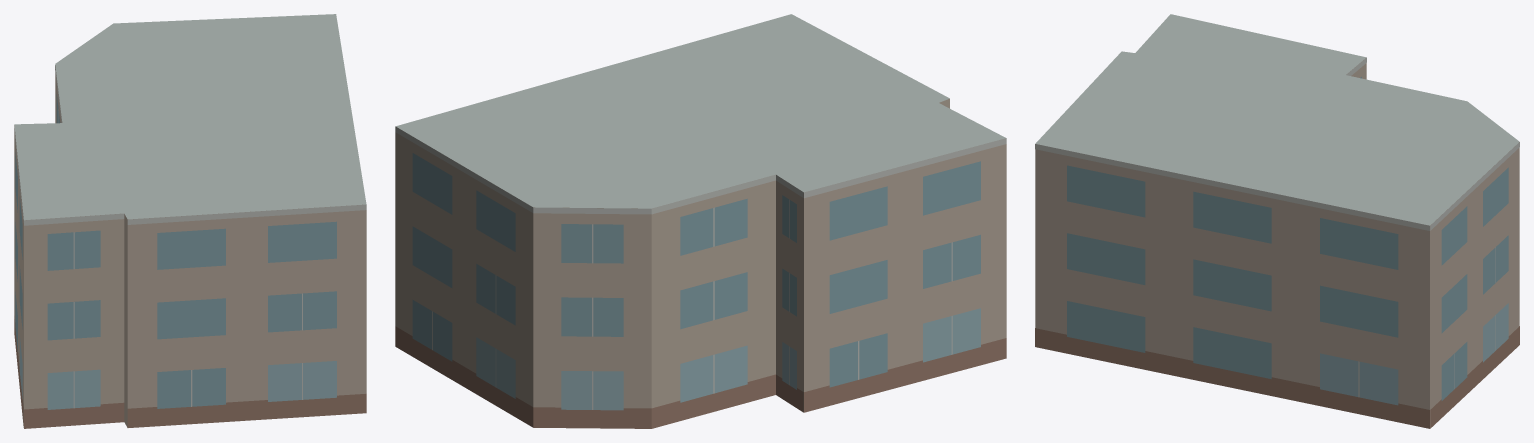
The model's file is survey-upis-32587945.glb.
3 renders of one model, left to right at view 1: azimuth 30°, elevation 25°; view 2: azimuth 150°, elevation 25°; view 3: azimuth 270°, elevation 25°, orthographic. The views are drawn at different scales.
Parts seen in each view (by area): view 1: survey-upis-32587945.tmp; view 2: survey-upis-32587945.tmp; view 3: survey-upis-32587945.tmp.
Part boxes in pixels (<box>): survey-upis-32587945.tmp: <box>14,14,366,428</box>; survey-upis-32587945.tmp: <box>395,14,1006,428</box>; survey-upis-32587945.tmp: <box>1035,14,1519,428</box>.
Size of the model in its own units: 20.46 by 9.15 by 19.79.
